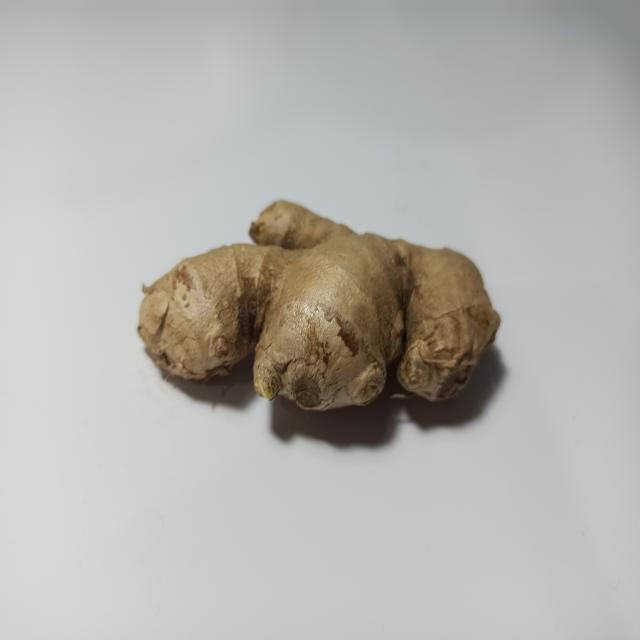ginger: (146, 211, 488, 401)
